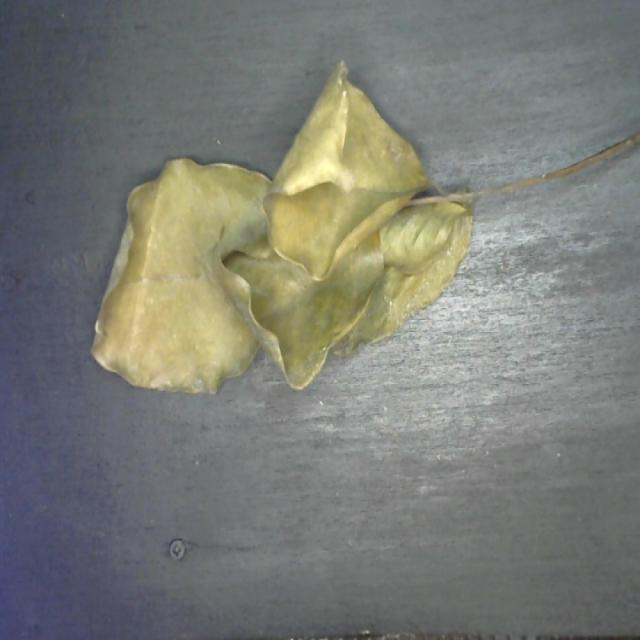biodegradable: (78, 48, 480, 403)
